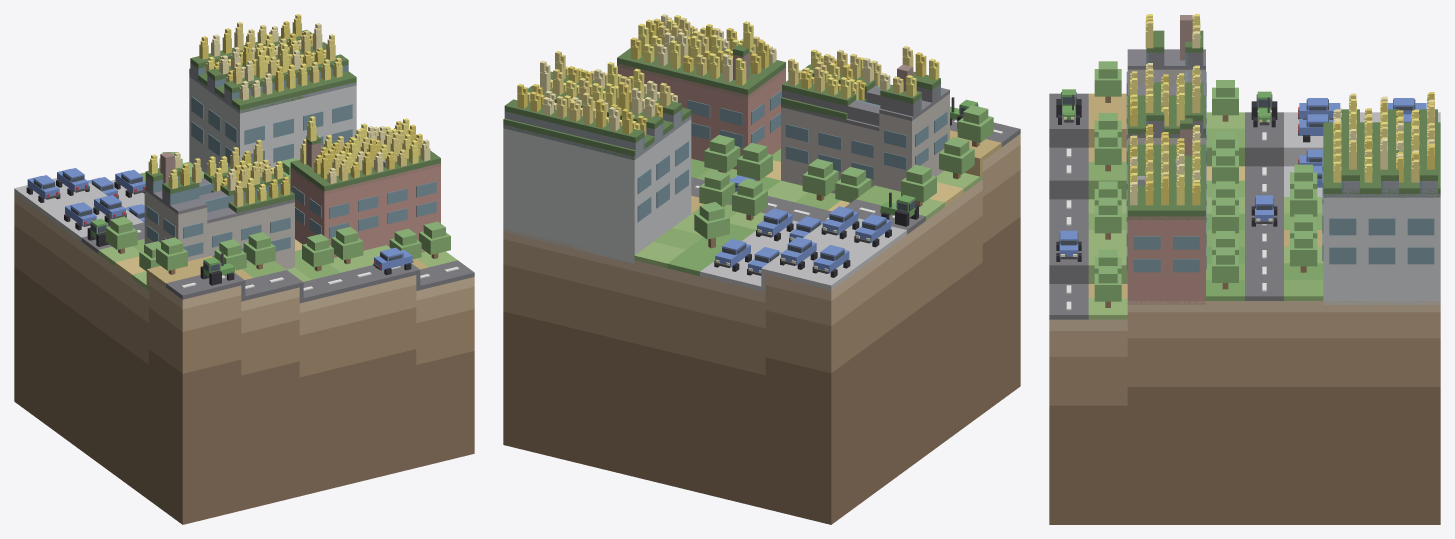
Rendered from block_13_urbanfarm_45.glb.
The picture shows the model from 3 angles, left to right: view 1: azimuth 30°, elevation 25°; view 2: azimuth 150°, elevation 25°; view 3: azimuth 270°, elevation 25°; orthographic projection. The views are drawn at different scales.
Parts seen in each view (by area): view 1: Patch_LowerLeft_b13_UF, Factories_LowerLeft_b13_UF, UFR_Factories_LowerLeft_b13_UF, Roads_LowerLeft_b13_UF, Ground_LowerLeft_b13_UF, Parking_LowerLeft_b13_UF, Asset_Tree_Round.093_UF, Asset_Tree_Round.114_UF, Asset_Tree_Round.111_UF, Asset_Tree_Round.113_UF, Asset_Tree_Round.115_UF, Asset_Tree_Round.117_UF (+9 smaller); view 2: Patch_LowerLeft_b13_UF, Factories_LowerLeft_b13_UF, Ground_LowerLeft_b13_UF, UFR_Factories_LowerLeft_b13_UF, Parking_LowerLeft_b13_UF, Roads_LowerLeft_b13_UF, Asset_Tree_Round.019_UF, Asset_Tree_Round.111_UF, Asset_Tree_Round.086_UF, Asset_Tree_Round.105_UF, Asset_Tree_Round.095_UF, Asset_Tree_Round.096_UF (+11 smaller); view 3: Patch_LowerLeft_b13_UF, Factories_LowerLeft_b13_UF, Roads_LowerLeft_b13_UF, UFR_Factories_LowerLeft_b13_UF, Ground_LowerLeft_b13_UF, Parking_LowerLeft_b13_UF, Asset_Tree_Round.115_UF, Asset_Tree_Round.117_UF, Asset_Tree_Round.089_UF, Asset_Tree_Round.113_UF, Asset_Tree_Round.111_UF, Asset_Tree_Round.093_UF (+19 smaller).
Boxes of the visible parts, x1=… form: Patch_LowerLeft_b13_UF: x1=14, y1=193, x2=474, y2=524; Factories_LowerLeft_b13_UF: x1=144, y1=63, x2=440, y2=269; UFR_Factories_LowerLeft_b13_UF: x1=145, y1=30, x2=440, y2=215; Roads_LowerLeft_b13_UF: x1=81, y1=222, x2=474, y2=303; Ground_LowerLeft_b13_UF: x1=98, y1=161, x2=457, y2=290; Parking_LowerLeft_b13_UF: x1=14, y1=178, x2=144, y2=241; Asset_Tree_Round.093_UF: x1=105, y1=216, x2=137, y2=253; Asset_Tree_Round.114_UF: x1=302, y1=234, x2=333, y2=271; Asset_Tree_Round.111_UF: x1=156, y1=237, x2=187, y2=274; Asset_Tree_Round.113_UF: x1=243, y1=232, x2=275, y2=269; Asset_Tree_Round.115_UF: x1=331, y1=227, x2=363, y2=264; Asset_Tree_Round.117_UF: x1=419, y1=221, x2=450, y2=258; Patch_LowerLeft_b13_UF: x1=503, y1=134, x2=1020, y2=524; Factories_LowerLeft_b13_UF: x1=503, y1=53, x2=949, y2=263; Ground_LowerLeft_b13_UF: x1=634, y1=130, x2=1001, y2=276; UFR_Factories_LowerLeft_b13_UF: x1=503, y1=44, x2=940, y2=160; Parking_LowerLeft_b13_UF: x1=700, y1=218, x2=906, y2=292; Roads_LowerLeft_b13_UF: x1=691, y1=119, x2=1020, y2=234; Asset_Tree_Round.019_UF: x1=694, y1=202, x2=729, y2=248; Asset_Tree_Round.111_UF: x1=957, y1=105, x2=993, y2=147; Asset_Tree_Round.086_UF: x1=732, y1=178, x2=767, y2=220; Asset_Tree_Round.105_UF: x1=939, y1=137, x2=974, y2=179; Asset_Tree_Round.095_UF: x1=802, y1=159, x2=838, y2=200; Asset_Tree_Round.096_UF: x1=737, y1=143, x2=772, y2=181; Patch_LowerLeft_b13_UF: x1=1049, y1=301, x2=1440, y2=524; Factories_LowerLeft_b13_UF: x1=1126, y1=15, x2=1440, y2=304; Roads_LowerLeft_b13_UF: x1=1049, y1=93, x2=1283, y2=319; UFR_Factories_LowerLeft_b13_UF: x1=1127, y1=30, x2=1440, y2=219; Ground_LowerLeft_b13_UF: x1=1088, y1=93, x2=1323, y2=319; Parking_LowerLeft_b13_UF: x1=1284, y1=112, x2=1440, y2=196; Asset_Tree_Round.115_UF: x1=1094, y1=197, x2=1121, y2=239; Asset_Tree_Round.117_UF: x1=1094, y1=266, x2=1121, y2=307; Asset_Tree_Round.089_UF: x1=1290, y1=231, x2=1317, y2=272; Asset_Tree_Round.113_UF: x1=1094, y1=129, x2=1121, y2=171; Asset_Tree_Round.111_UF: x1=1094, y1=61, x2=1121, y2=102; Asset_Tree_Round.093_UF: x1=1212, y1=80, x2=1238, y2=121.
Size of the model in its own units: 9.52 by 10.16 by 9.5.
